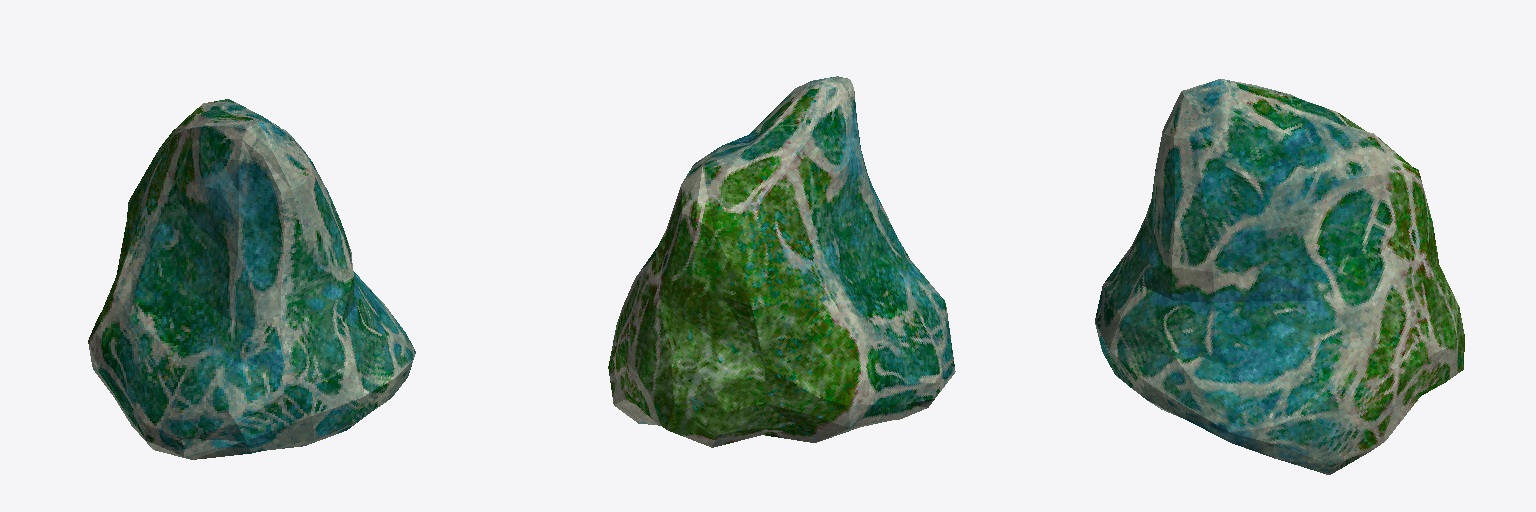
The picture shows the model from 3 angles: view 1: azimuth 30°, elevation 25°; view 2: azimuth 150°, elevation 25°; view 3: azimuth 270°, elevation 25°; orthographic projection.
Parts seen in each view (by area): view 1: Stone_Big_rock_atlas_0; view 2: Stone_Big_rock_atlas_0; view 3: Stone_Big_rock_atlas_0.
Part boxes in pixels (left/top/right/bottom): Stone_Big_rock_atlas_0: left=88, top=99, right=415, bottom=459; Stone_Big_rock_atlas_0: left=608, top=76, right=955, bottom=447; Stone_Big_rock_atlas_0: left=1095, top=79, right=1464, bottom=474.
Bounding box in the file's own units: 7.86 × 8.8 × 9.05.
Materials: 1 (1 with a texture image).